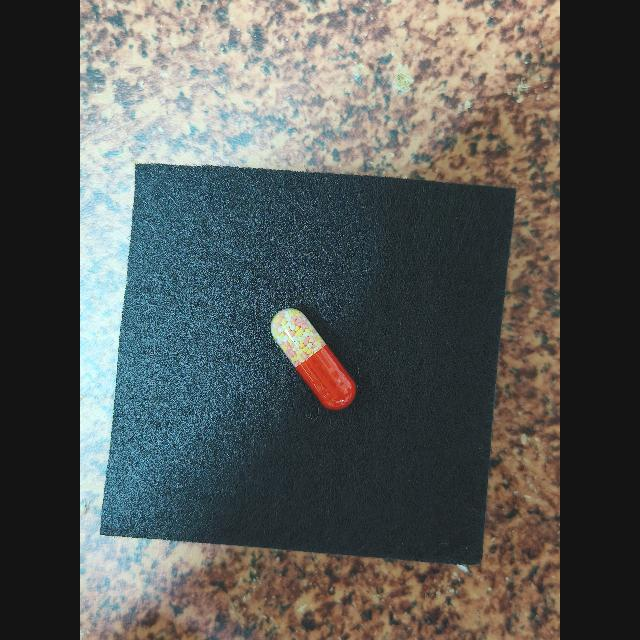Intact Capsule: (270, 308, 356, 410)
